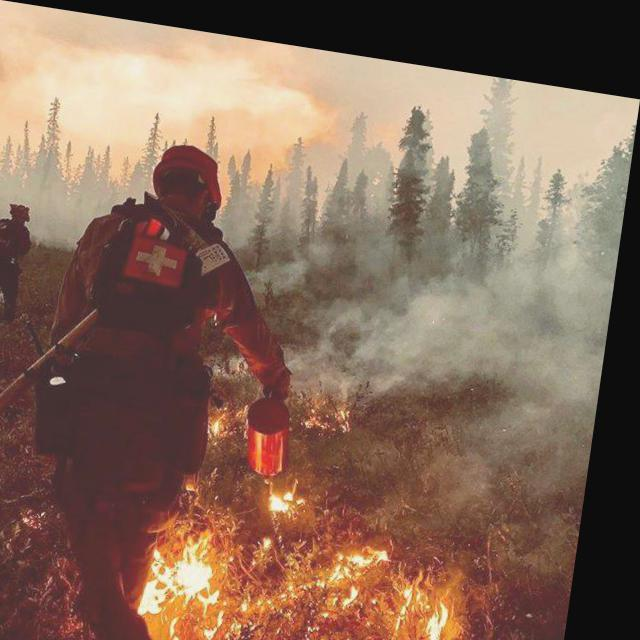Fire: (141, 512, 268, 639), (338, 519, 407, 599), (412, 570, 468, 638), (216, 397, 244, 432), (279, 474, 311, 502)
